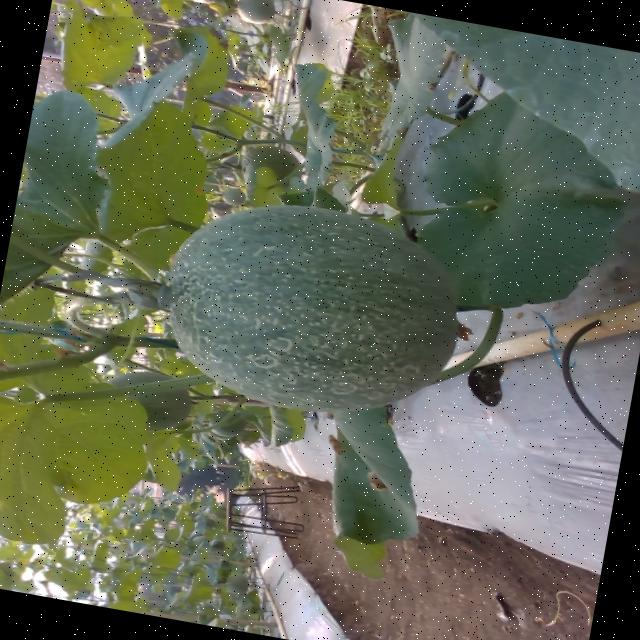melon: (163, 204, 458, 409)
